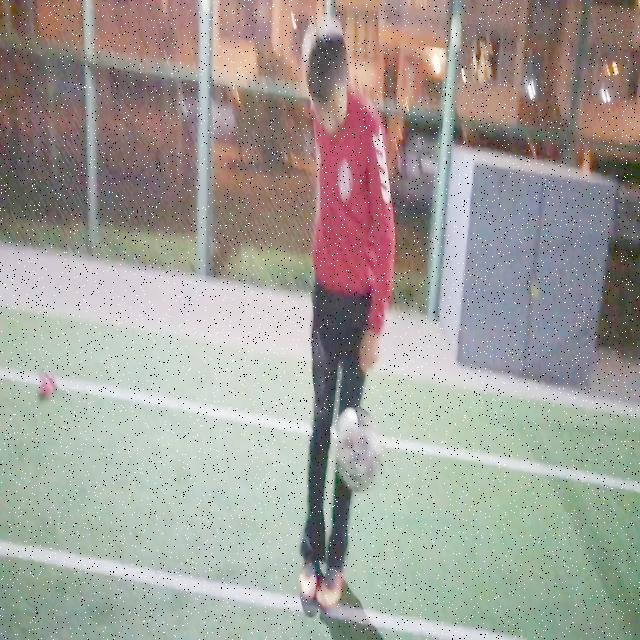ball: (334, 408, 383, 492)
